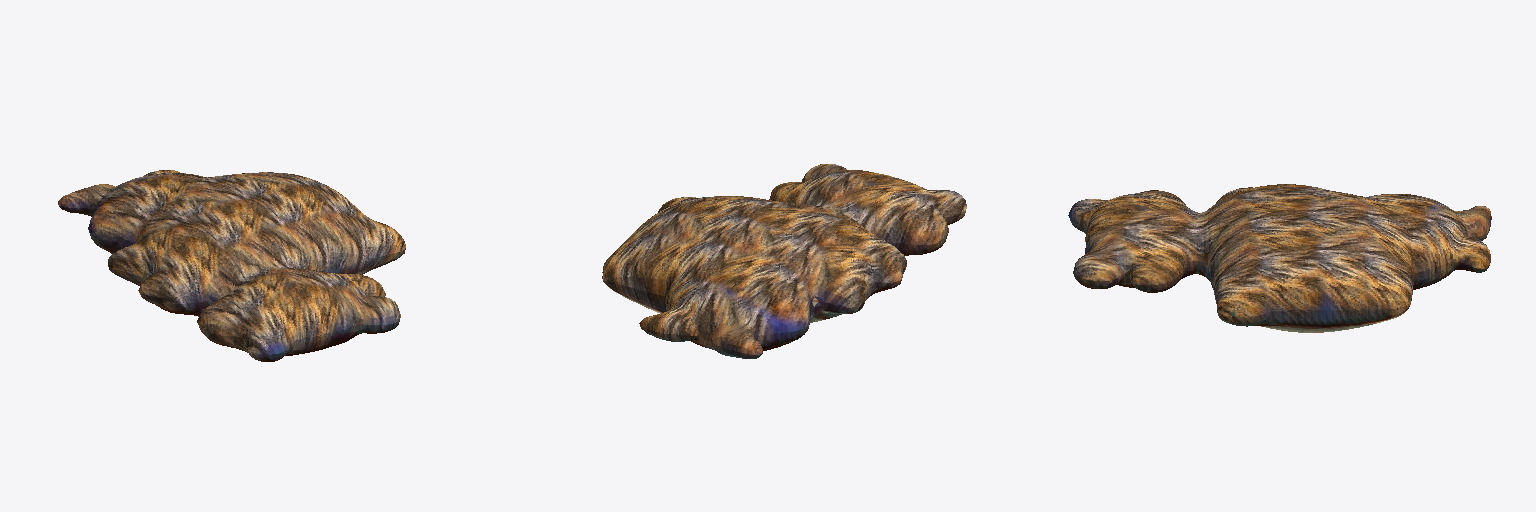
The picture shows the model from 3 angles: view 1: azimuth 30°, elevation 25°; view 2: azimuth 150°, elevation 25°; view 3: azimuth 270°, elevation 25°; orthographic projection.
Visible parts, largest first — view 1: Object.1; view 2: Object.1; view 3: Object.1.
Part boxes in pixels (x1,y1,x2,y2): Object.1: (58, 170, 405, 361); Object.1: (602, 164, 966, 358); Object.1: (1068, 184, 1491, 332).
Bounding box in the file's own units: 0.1573 × 0.0559 × 0.2315.
1 materials, 1 textured.